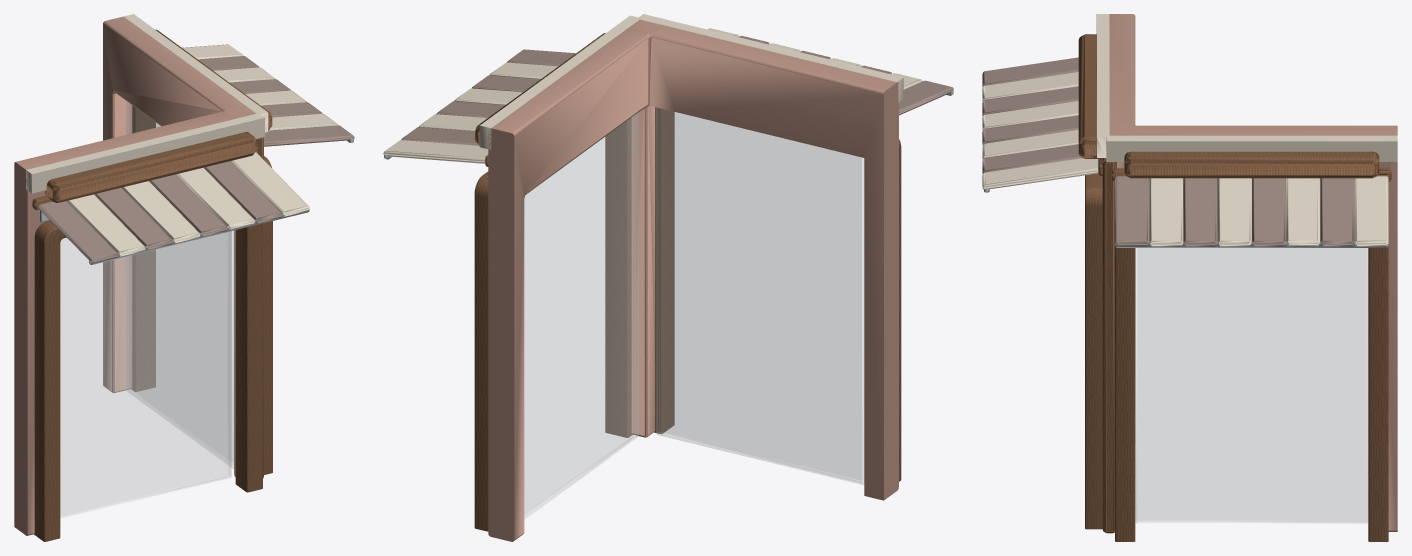
File: CornerShopfront90.glb
The picture shows the model from 3 angles, left to right: view 1: azimuth 30°, elevation 25°; view 2: azimuth 150°, elevation 25°; view 3: azimuth 270°, elevation 25°; orthographic projection. The views are drawn at different scales.
Visible parts, largest first — view 1: PBK_glass.001, PBK_substrate.001, PBK_glass.003, PBK_Continuous_Frame_Brick_Shopfront.003, PBK_Continuous_Frame_Brick_Shopfront.004, PBK_floor_band.001, PBK_signboard.001, PBK_awning_stripe.001, PBK_awning_stripe.008, PBK_awning_stripe.006, PBK_awning_stripe.005, PBK_awning_stripe.007 (+12 smaller); view 2: PBK_glass.001, PBK_substrate.001, PBK_glass.003, PBK_Continuous_Frame_Brick_Shopfront.004, PBK_Continuous_Frame_Brick_Shopfront.003, PBK_floor_band.001, PBK_awning_stripe.016, PBK_awning_stripe.015, PBK_awning_stripe.001, PBK_awning_stripe.014, PBK_awning_stripe.012, PBK_awning_stripe.013 (+3 smaller); view 3: PBK_glass.003, PBK_Continuous_Frame_Brick_Shopfront.004, PBK_substrate.001, PBK_floor_band.001, PBK_signboard.002, PBK_Continuous_Frame_Brick_Shopfront.003, PBK_ShopCornerPost90.021, PBK_awning_stripe.016, PBK_awning_stripe.009, PBK_awning_stripe.012, PBK_awning_stripe.011, PBK_awning_stripe.014 (+13 smaller).
Boxes of the visible parts, x1=… form: PBK_glass.001: x1=60, y1=231, x2=231, y2=518; PBK_substrate.001: x1=14, y1=16, x2=255, y2=535; PBK_glass.003: x1=126, y1=101, x2=233, y2=468; PBK_Continuous_Frame_Brick_Shopfront.003: x1=34, y1=220, x2=262, y2=541; PBK_Continuous_Frame_Brick_Shopfront.004: x1=132, y1=105, x2=272, y2=474; PBK_floor_band.001: x1=26, y1=14, x2=268, y2=193; PBK_signboard.001: x1=45, y1=132, x2=256, y2=202; PBK_awning_stripe.001: x1=38, y1=201, x2=118, y2=263; PBK_awning_stripe.008: x1=231, y1=152, x2=309, y2=216; PBK_awning_stripe.006: x1=176, y1=167, x2=254, y2=229; PBK_awning_stripe.005: x1=149, y1=174, x2=227, y2=236; PBK_awning_stripe.007: x1=204, y1=161, x2=282, y2=223; PBK_glass.001: x1=656, y1=107, x2=863, y2=484; PBK_substrate.001: x1=488, y1=19, x2=898, y2=541; PBK_glass.003: x1=524, y1=113, x2=638, y2=519; PBK_Continuous_Frame_Brick_Shopfront.004: x1=474, y1=117, x2=632, y2=531; PBK_Continuous_Frame_Brick_Shopfront.003: x1=654, y1=107, x2=901, y2=481; PBK_floor_band.001: x1=479, y1=14, x2=903, y2=149; PBK_awning_stripe.016: x1=383, y1=140, x2=488, y2=163; PBK_awning_stripe.015: x1=401, y1=127, x2=478, y2=145; PBK_awning_stripe.001: x1=899, y1=80, x2=953, y2=115; PBK_awning_stripe.014: x1=419, y1=114, x2=487, y2=130; PBK_awning_stripe.012: x1=454, y1=88, x2=522, y2=104; PBK_awning_stripe.013: x1=436, y1=101, x2=504, y2=117; PBK_glass.003: x1=1135, y1=248, x2=1367, y2=523; PBK_Continuous_Frame_Brick_Shopfront.004: x1=1115, y1=247, x2=1388, y2=541; PBK_substrate.001: x1=1109, y1=14, x2=1397, y2=531; PBK_floor_band.001: x1=1096, y1=14, x2=1397, y2=161; PBK_signboard.002: x1=1124, y1=151, x2=1379, y2=178; PBK_Continuous_Frame_Brick_Shopfront.003: x1=1085, y1=173, x2=1102, y2=529; PBK_ShopCornerPost90.021: x1=1102, y1=158, x2=1116, y2=533; PBK_awning_stripe.016: x1=1354, y1=176, x2=1388, y2=246; PBK_awning_stripe.009: x1=1115, y1=176, x2=1149, y2=246; PBK_awning_stripe.012: x1=1217, y1=178, x2=1251, y2=246; PBK_awning_stripe.011: x1=1183, y1=178, x2=1217, y2=246; PBK_awning_stripe.014: x1=1286, y1=178, x2=1320, y2=246.
Bounding box in the file's own units: 2.85 × 3 × 2.85.
Materials: 7 (2 with a texture image).
